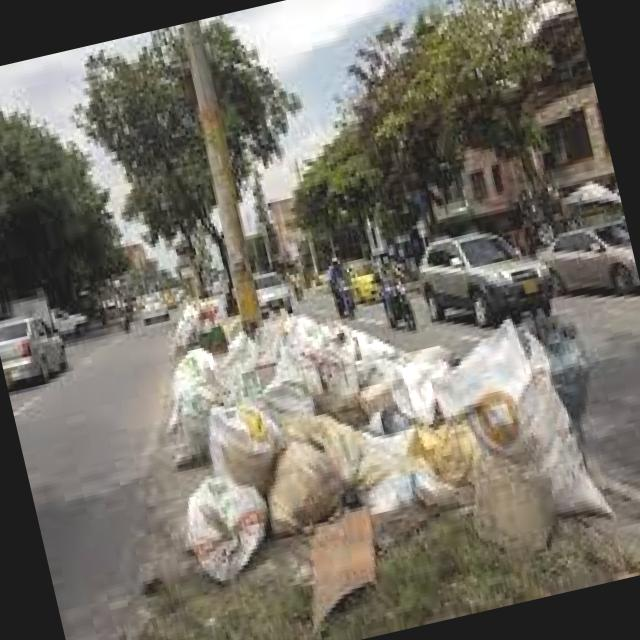garbage: (140, 256, 638, 640)
